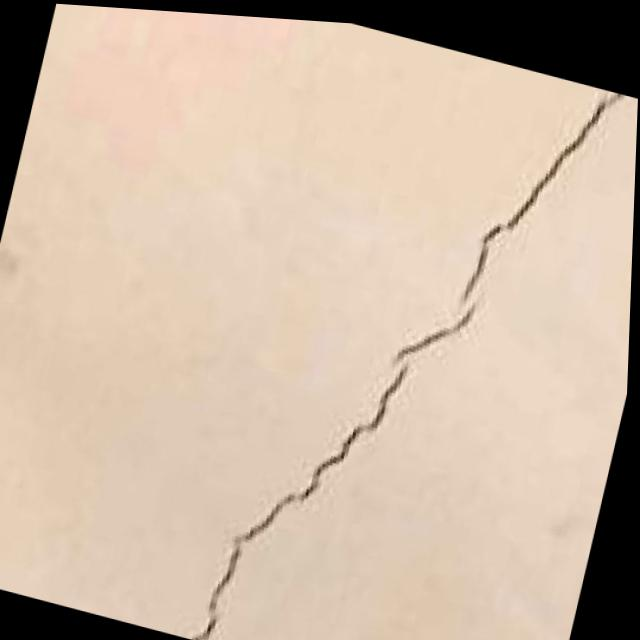Crack: (142, 8, 640, 640)
